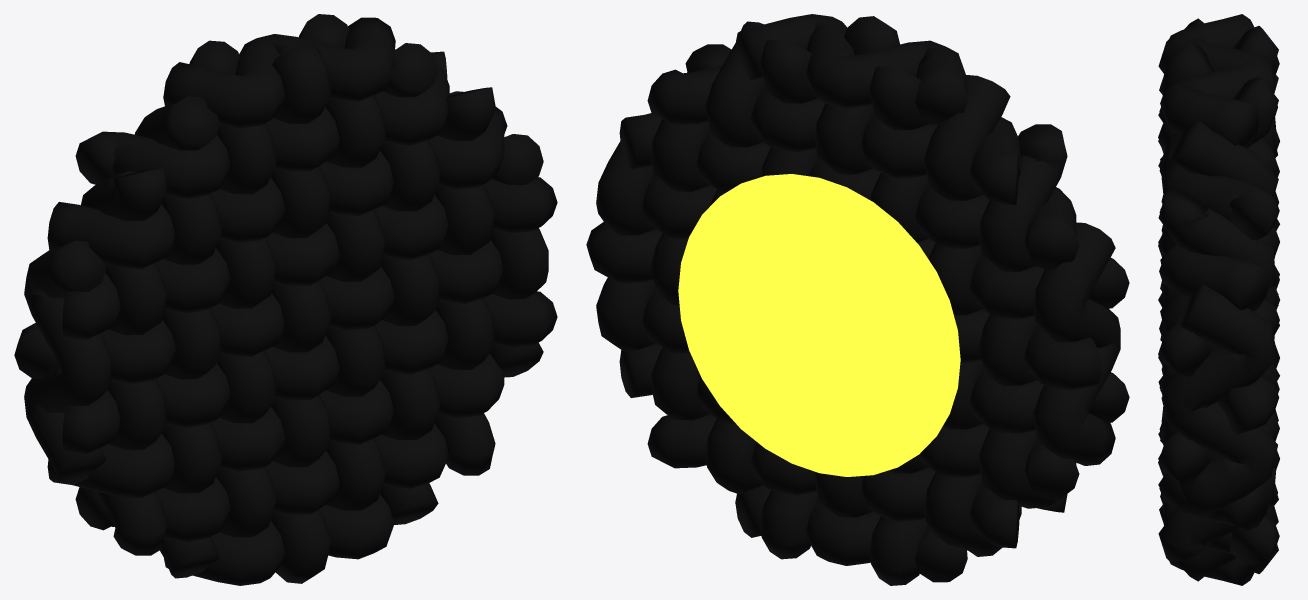
The picture shows the model from 3 angles, left to right: view 1: azimuth 30°, elevation 25°; view 2: azimuth 150°, elevation 25°; view 3: azimuth 270°, elevation 25°; orthographic projection. The views are drawn at different scales.
Visible parts, largest first — view 1: aya; view 2: aya, lime_back; view 3: aya.
Part boxes in pixels (x1,y1,x2,y2): aya: (14, 14, 557, 585); aya: (586, 14, 1129, 585); lime_back: (678, 174, 960, 476); aya: (1158, 14, 1279, 585).
Bounding box in the file's own units: 2.26 × 2.26 × 0.545.
